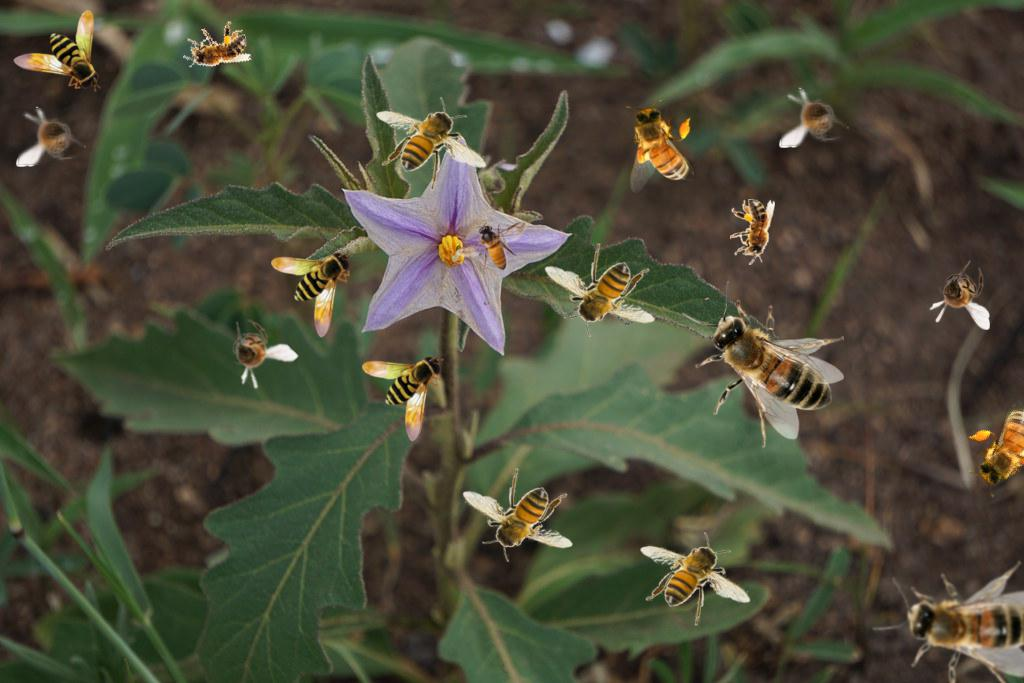Bee: (854, 513, 1024, 683), (682, 281, 844, 448), (462, 468, 573, 562), (640, 532, 751, 626), (544, 243, 655, 337), (376, 97, 487, 191), (207, 306, 300, 400), (951, 394, 1024, 501), (362, 354, 444, 442), (271, 250, 353, 338), (13, 10, 101, 92), (626, 100, 694, 193), (176, 16, 254, 81), (16, 106, 86, 167), (779, 87, 849, 148), (929, 260, 990, 330), (456, 221, 527, 271), (730, 199, 775, 265)
